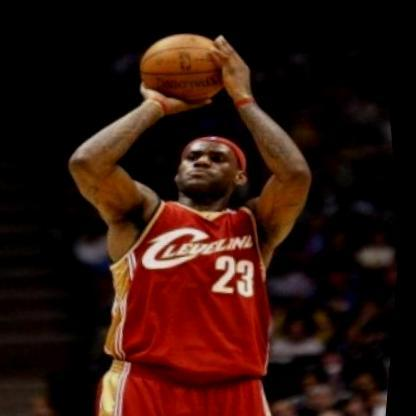basketball: (126, 12, 248, 121)
